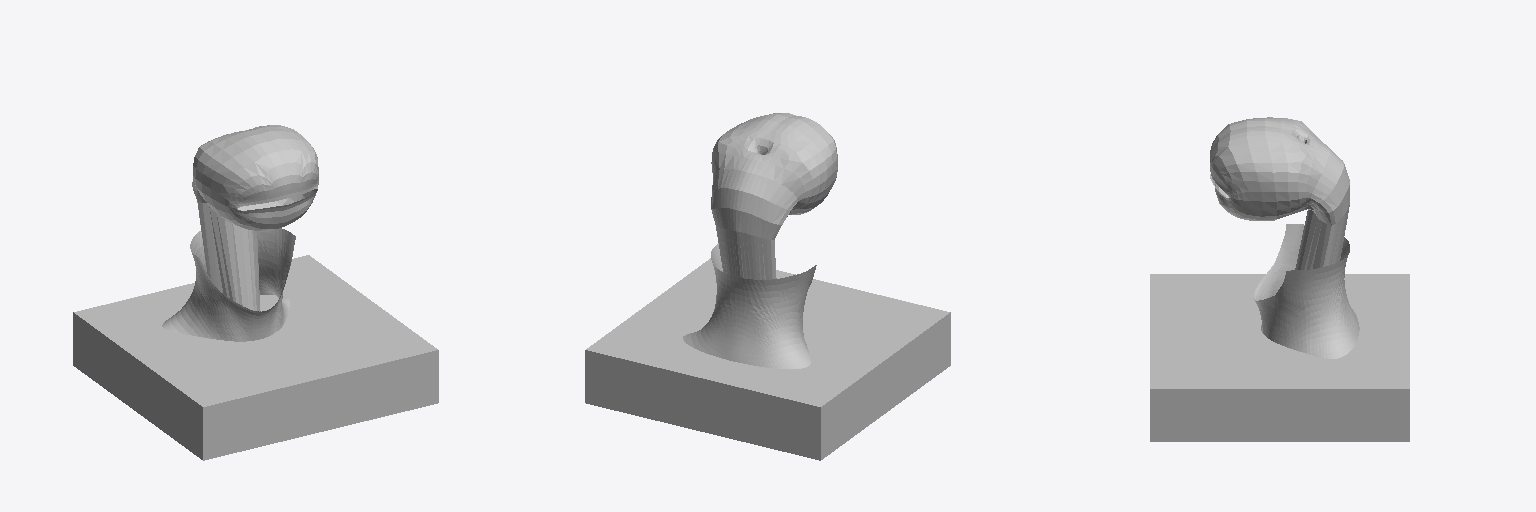
File: hole.obj
3 renders of one model, left to right at view 1: azimuth 30°, elevation 25°; view 2: azimuth 150°, elevation 25°; view 3: azimuth 270°, elevation 25°, orthographic.
Visible parts, largest first — view 1: hole; view 2: hole; view 3: hole.
Part boxes in pixels (left/top/right/bottom): hole: left=73, top=125, right=438, bottom=460; hole: left=585, top=113, right=950, bottom=460; hole: left=1150, top=117, right=1409, bottom=441.
Size of the model in its own units: 0.1224 by 0.1278 by 0.1169.